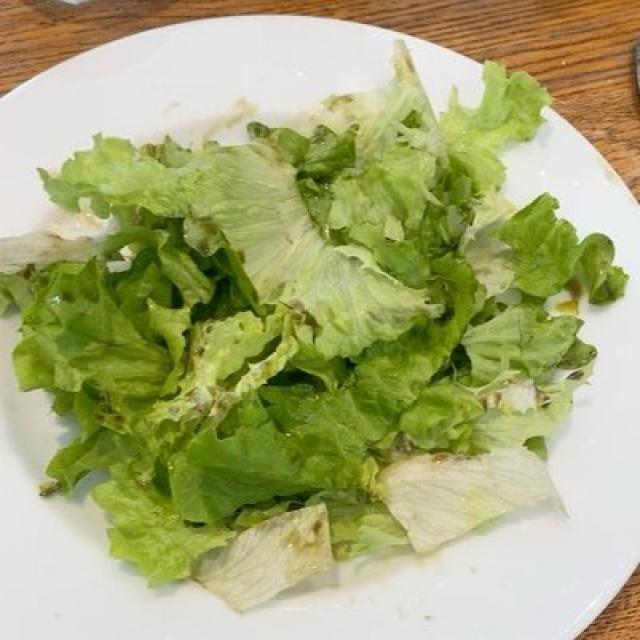salad: (17, 73, 610, 591)
